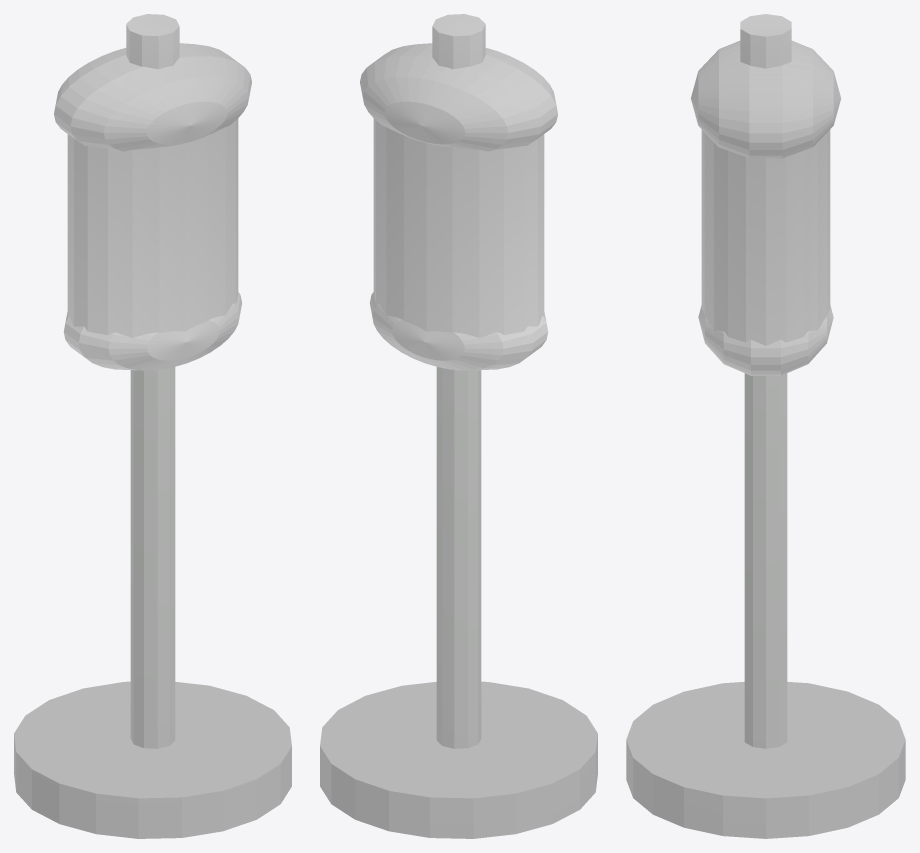
Rendered from Building_Building_KidOutfitStand.glb.
The picture shows the model from 3 angles, left to right: view 1: azimuth 30°, elevation 25°; view 2: azimuth 150°, elevation 25°; view 3: azimuth 270°, elevation 25°; orthographic projection.
Visible parts, largest first — view 1: Building_KidOutfitStand; view 2: Building_KidOutfitStand; view 3: Building_KidOutfitStand.
Part boxes in pixels (x1=…): Building_KidOutfitStand: x1=14, y1=14, x2=291, y2=838; Building_KidOutfitStand: x1=320, y1=14, x2=597, y2=838; Building_KidOutfitStand: x1=626, y1=14, x2=905, y2=838.
Bounding box in the file's own units: 0.3744 × 1.12 × 0.3744.
1 material, 1 textured.
